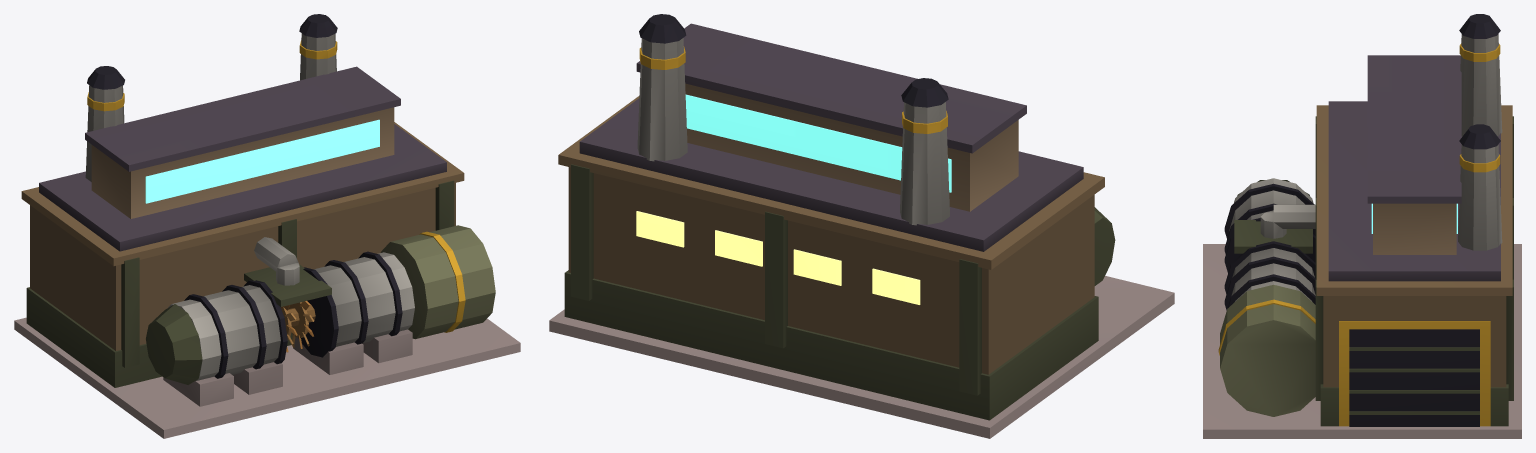
3 views of the same model, side by side, from view 1: azimuth 30°, elevation 25°; view 2: azimuth 150°, elevation 25°; view 3: azimuth 270°, elevation 25° (orthographic). The views are drawn at different scales.
Visible parts, largest first — view 1: body_pal_picketWhite, body_emi_tealLight, turbineRotor_pal_picketWhite; view 2: body_pal_picketWhite, body_emi_tealLight, body_emi_windowGlow; view 3: body_pal_picketWhite.
Boxes of the visible parts, <box> form: body_pal_picketWhite: <box>14,14,520,438</box>; body_emi_tealLight: <box>145,119,379,203</box>; turbineRotor_pal_picketWhite: <box>280,301,315,352</box>; body_pal_picketWhite: <box>549,14,1174,438</box>; body_emi_tealLight: <box>685,94,951,192</box>; body_emi_windowGlow: <box>636,211,920,304</box>; body_pal_picketWhite: <box>1203,14,1521,438</box>.
Size of the model in its own units: 16.8 by 11.5 by 12.2.
